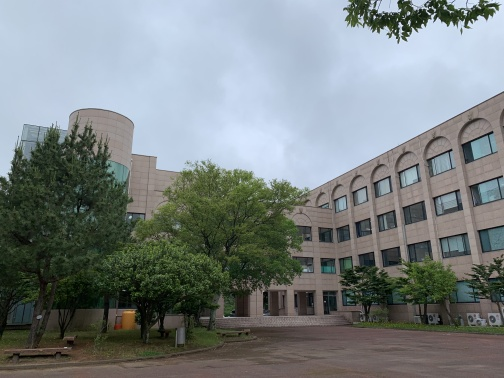Joint Experimental Labs: (17, 97, 179, 207)
Natural Science2: (324, 91, 504, 326)
